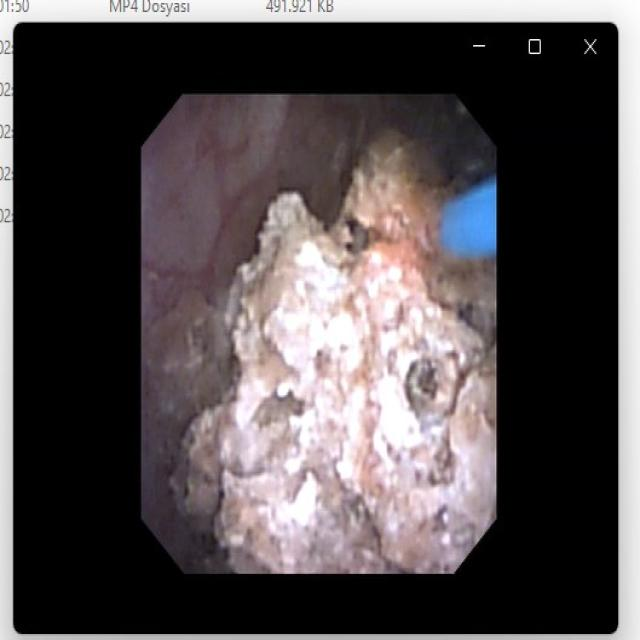fiber: (447, 186, 492, 256)
stone: (153, 133, 493, 565)
